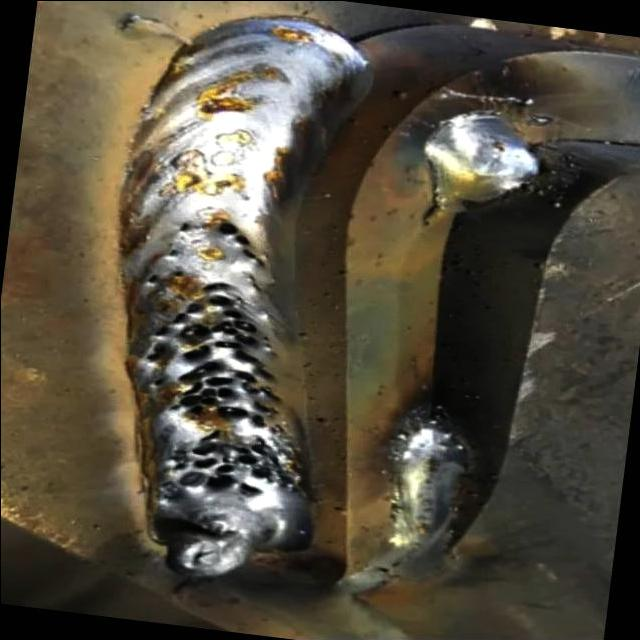defect: (136, 279, 315, 508), (211, 219, 272, 271), (173, 219, 198, 234), (144, 272, 161, 284), (163, 247, 182, 257), (171, 270, 185, 279)
